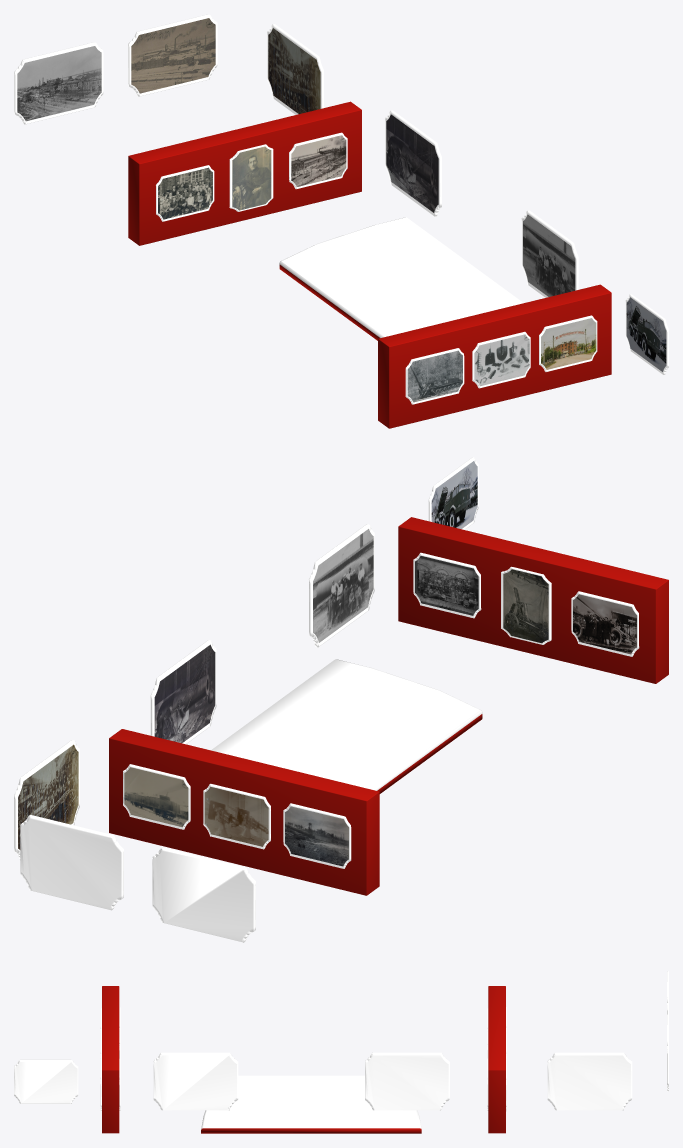
Rendered from zal2.glb.
The picture shows the model from 3 angles, top to bottom: view 1: azimuth 30°, elevation 25°; view 2: azimuth 150°, elevation 25°; view 3: azimuth 270°, elevation 25°; orthographic projection. The views are drawn at different scales.
Visible parts, largest first — view 1: yadra; view 2: yadra; view 3: yadra.
Part boxes in pixels (x1,y1,x2,y2): yadra: [14, 14, 668, 428]; yadra: [14, 457, 668, 942]; yadra: [14, 971, 668, 1133].
Bounding box in the file's own units: 14.76 × 6.4 × 46.74.
24 materials, 18 textured.
